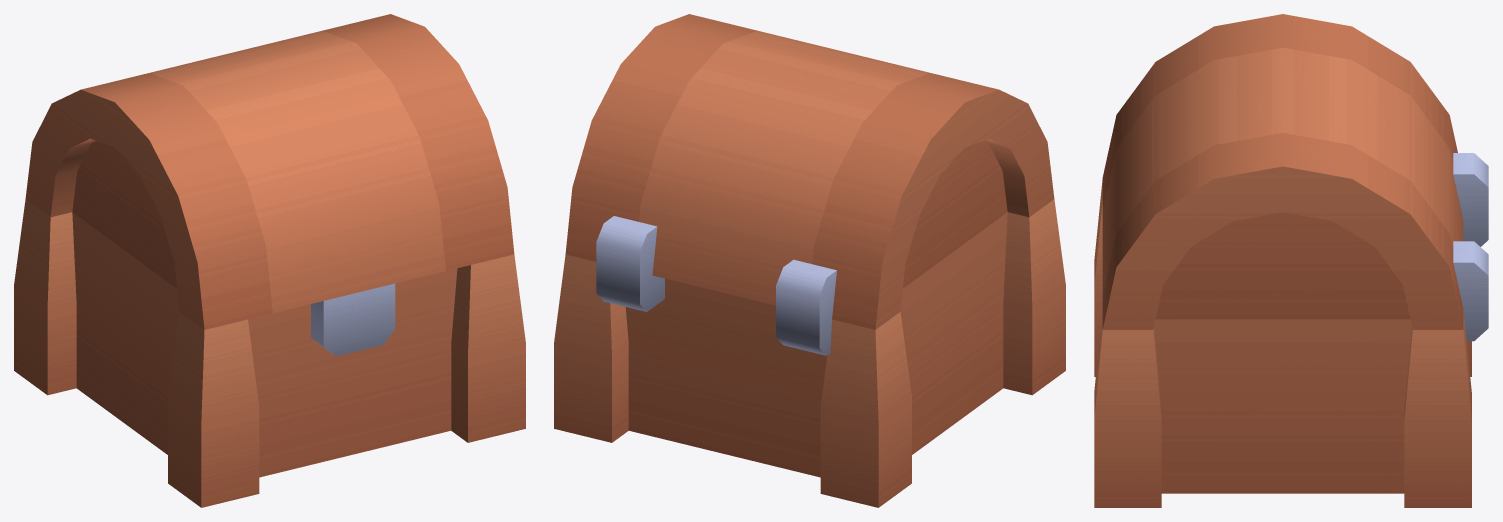
The model's file is chest.glb.
3 views of the same model, side by side, from view 1: azimuth 30°, elevation 25°; view 2: azimuth 150°, elevation 25°; view 3: azimuth 270°, elevation 25° (orthographic).
Parts seen in each view (by area): view 1: lid, chest; view 2: lid, chest; view 3: lid, chest.
Part boxes in pixels (<box>): lid: <box>25,14,514,356</box>; chest: <box>14,199,525,507</box>; lid: <box>565,14,1054,329</box>; chest: <box>554,199,1065,507</box>; lid: <box>1102,14,1463,329</box>; chest: <box>1094,153,1488,507</box>.
Bounding box in the file's own units: 0.2604 × 0.2572 × 0.272.
Materials: 1 (1 with a texture image).
